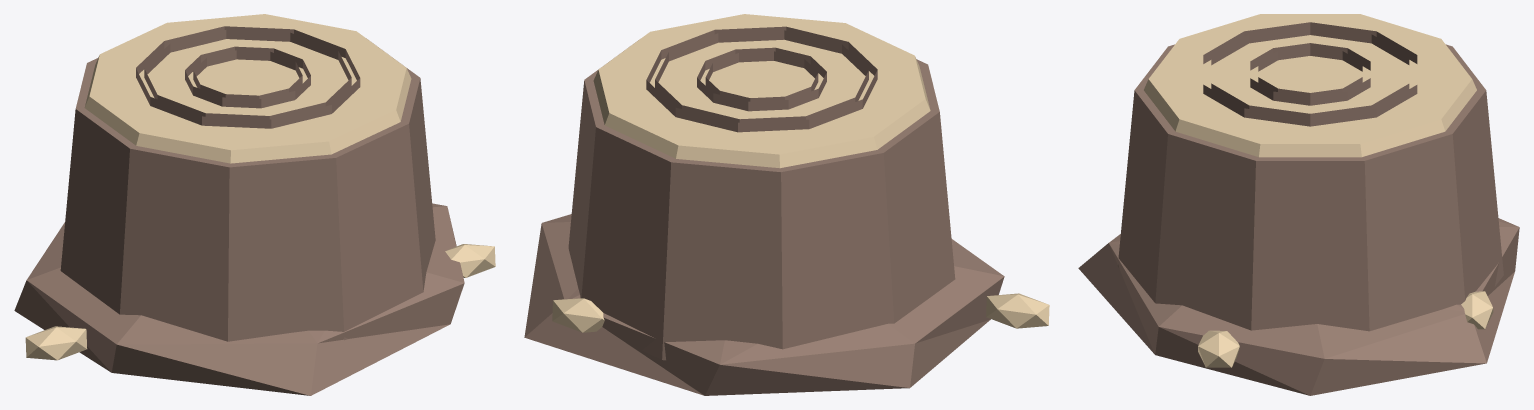
File: world_stump.fbx
3 renders of one model, left to right at view 1: azimuth 30°, elevation 25°; view 2: azimuth 150°, elevation 25°; view 3: azimuth 270°, elevation 25°, orthographic. The views are drawn at different scales.
Parts seen in each view (by area): view 1: world_stump_mesh; view 2: world_stump_mesh; view 3: world_stump_mesh.
Part boxes in pixels (x1,y1,x2,y2): world_stump_mesh: (14,14,495,395); world_stump_mesh: (524,14,1049,395); world_stump_mesh: (1078,14,1519,395).
Size of the model in its own units: 0.7512 by 0.352 by 0.6273.
